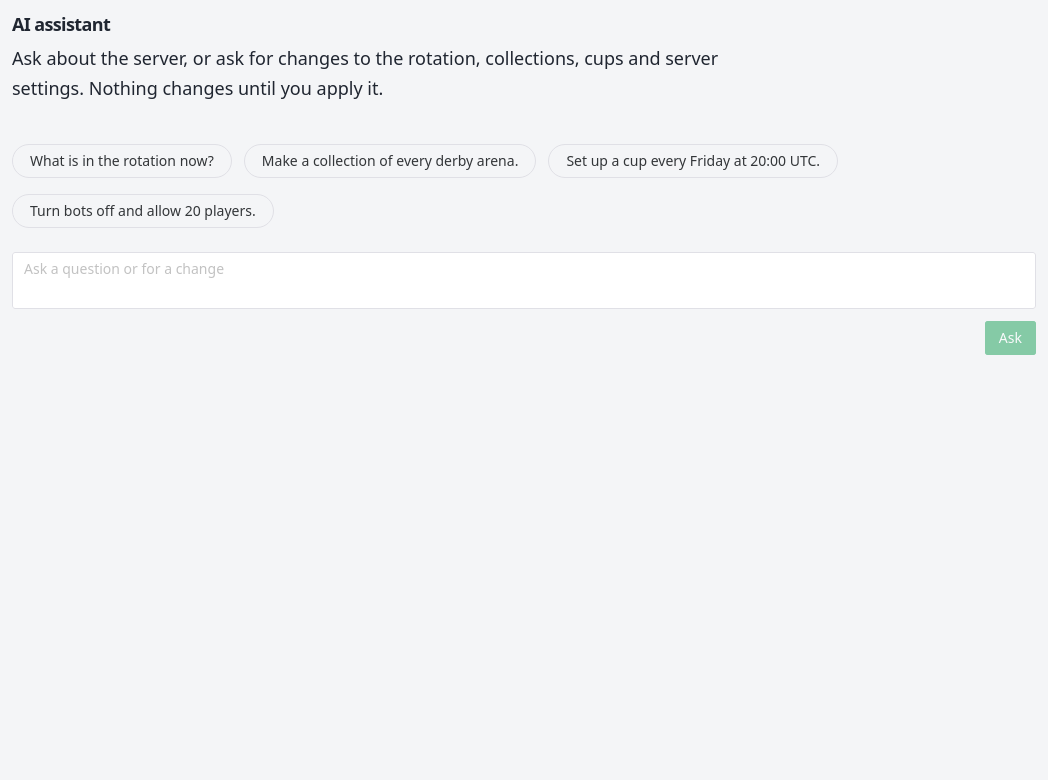
it: AdminAssistantView › says why a proposal could not be applied, and lets the admin try again
Type "Ovals only." into the text box named "Your question" at (524, 281), box [24, 252, 1024, 310]
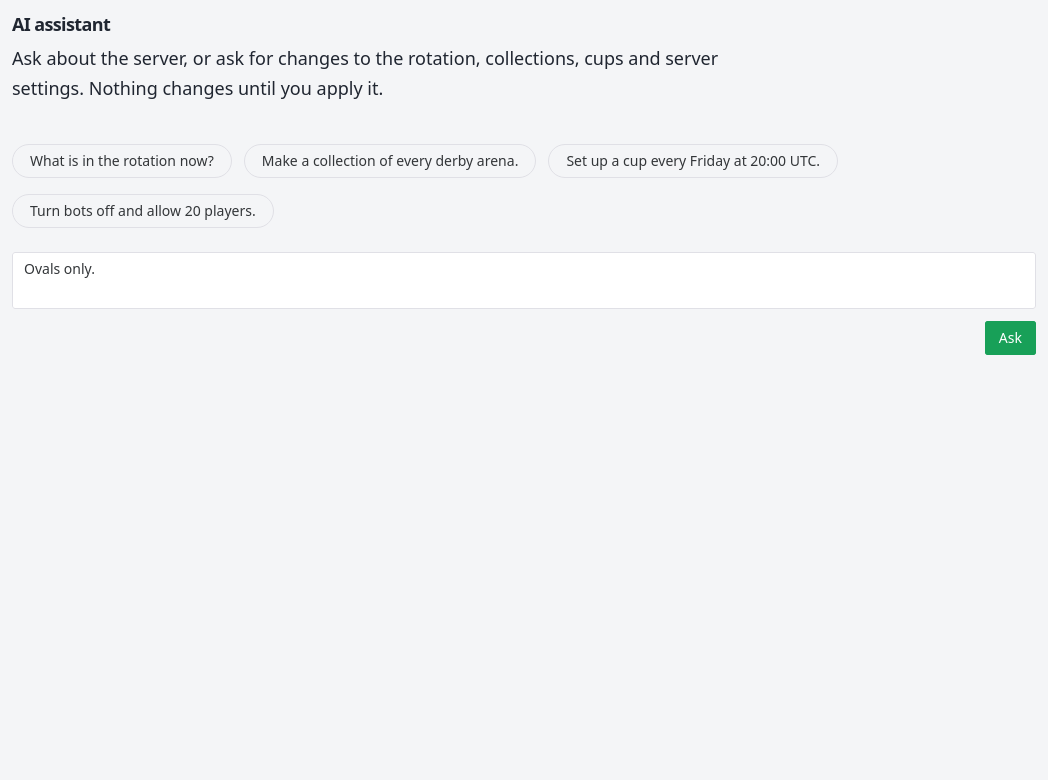
Submit the form, box [12, 252, 1036, 356]
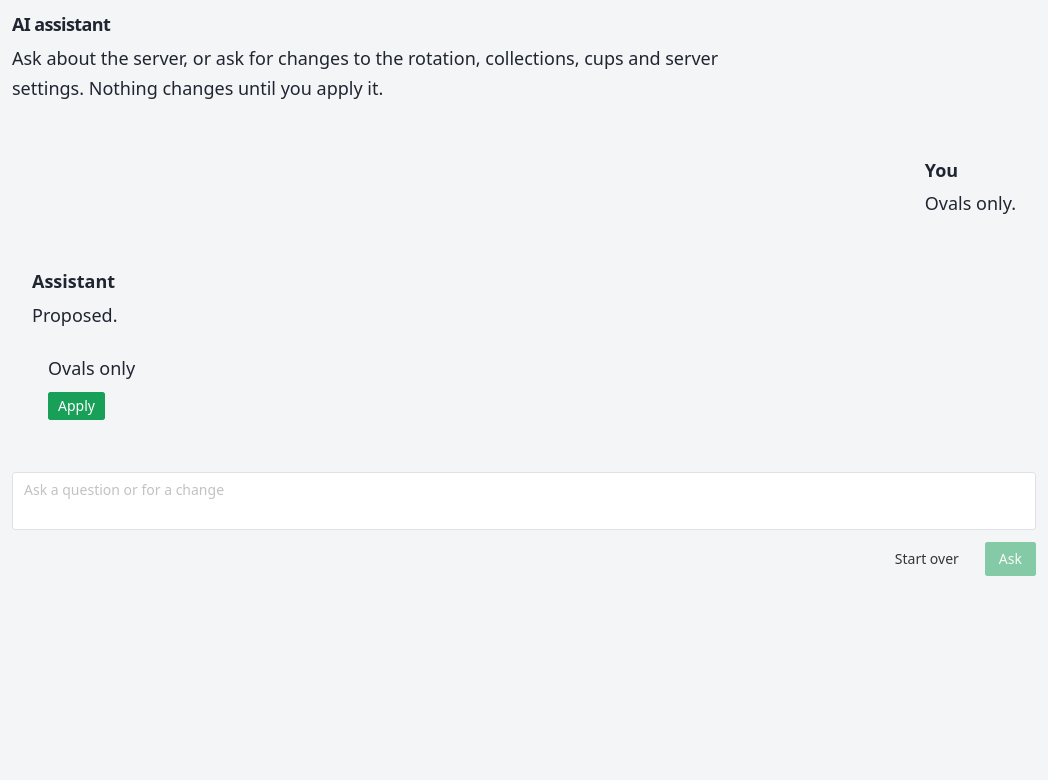
Click the button "Apply" at (76, 406), box [48, 392, 105, 420]
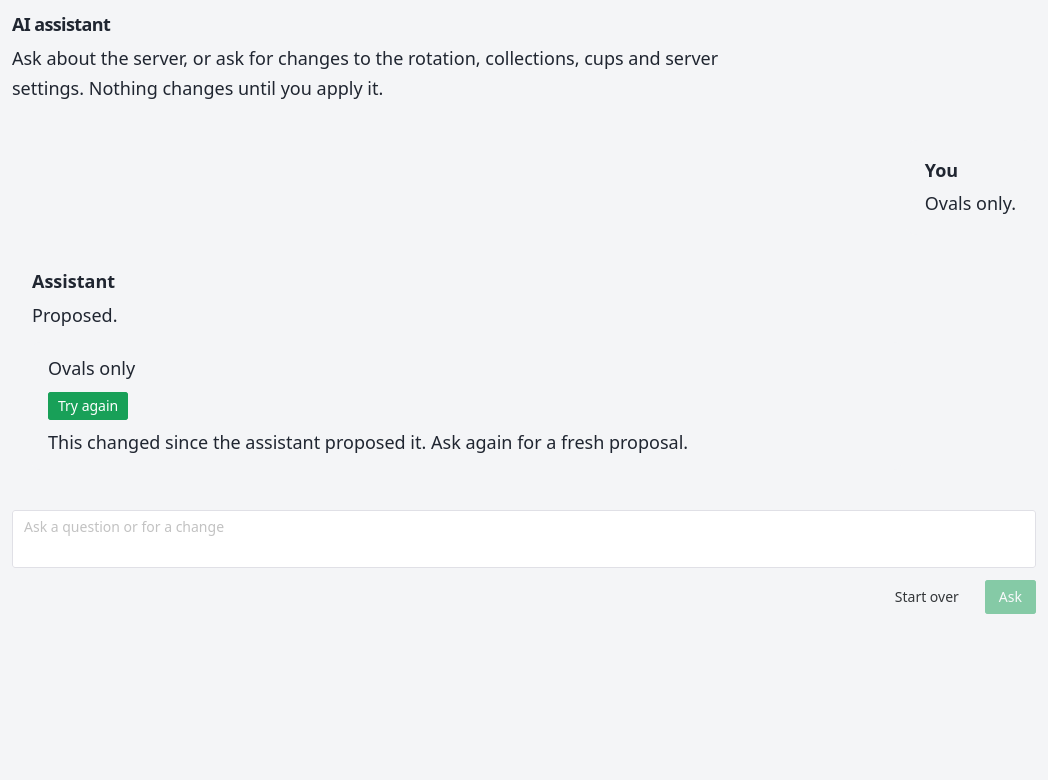
Now the button "Try again" is shown, box [48, 392, 128, 420]
Now the message "This changed since the assistant proposed it. Ask again for a fresh proposal." is shown, box [48, 430, 688, 454]
